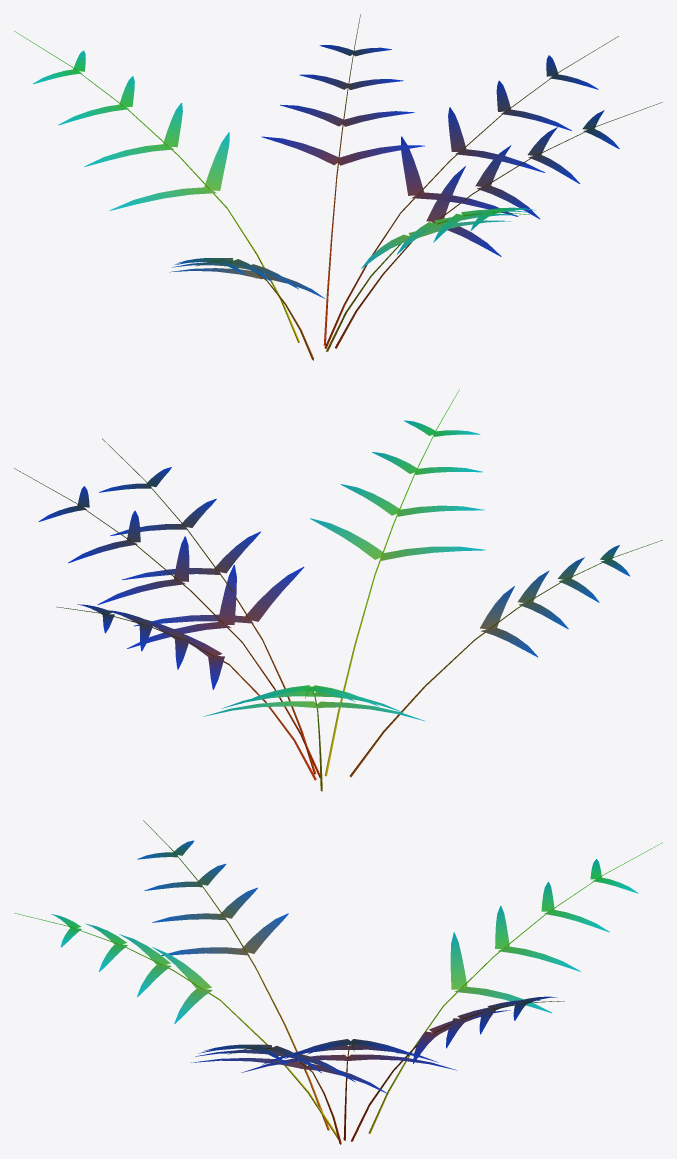
The model's file is SM_Fern_Bracken_A_LOD2.fbx.
The picture shows the model from 3 angles, top to bottom: view 1: azimuth 30°, elevation 25°; view 2: azimuth 150°, elevation 25°; view 3: azimuth 270°, elevation 25°; orthographic projection. The views are drawn at different scales.
Visible parts, largest first — view 1: SM_Fern_Bracken_A_LOD2; view 2: SM_Fern_Bracken_A_LOD2; view 3: SM_Fern_Bracken_A_LOD2.
Part boxes in pixels (x1,y1,x2,y2): SM_Fern_Bracken_A_LOD2: (14, 14, 662, 360); SM_Fern_Bracken_A_LOD2: (14, 389, 662, 791); SM_Fern_Bracken_A_LOD2: (14, 820, 662, 1144).
Bounding box in the file's own units: 1.98 × 0.8951 × 2.16.
